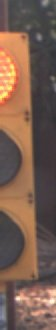Red: (1, 23, 44, 306)
